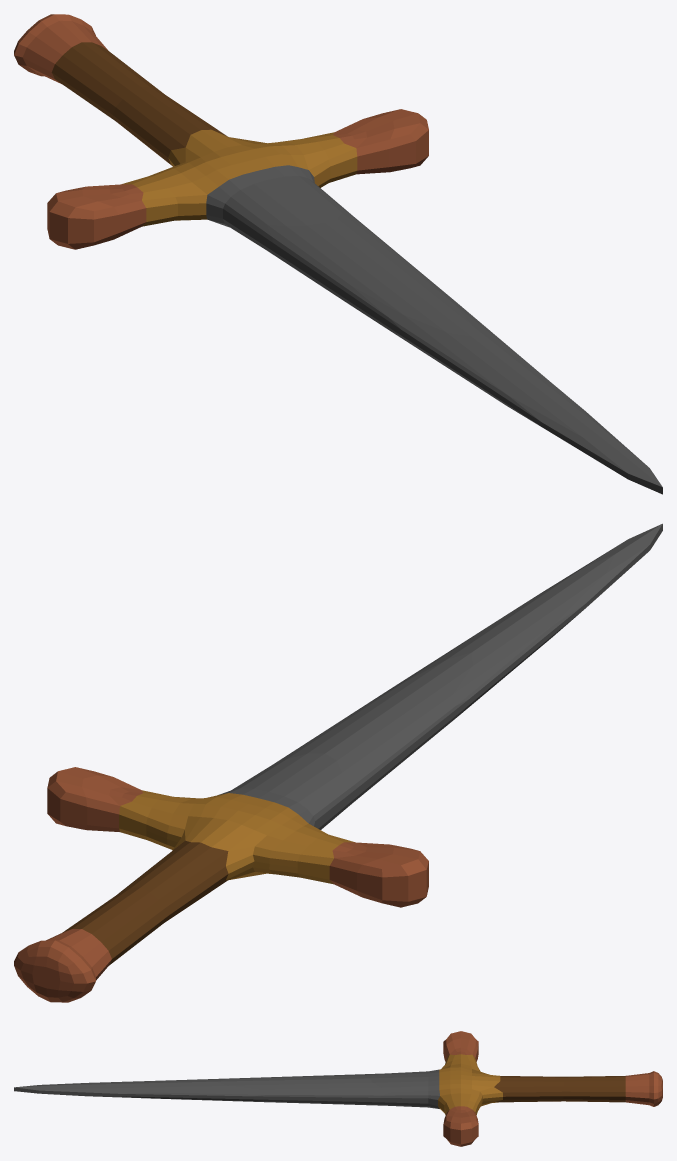
File: Sword.fbx
The picture shows the model from 3 angles, top to bottom: view 1: azimuth 30°, elevation 25°; view 2: azimuth 150°, elevation 25°; view 3: azimuth 270°, elevation 25°; orthographic projection. The views are drawn at different scales.
Parts seen in each view (by area): view 1: Cube.001; view 2: Cube.001; view 3: Cube.001.
Boxes of the visible parts, box(x1,y1,x2,y2) form: Cube.001: box(14, 14, 662, 494); Cube.001: box(14, 523, 662, 1002); Cube.001: box(14, 1031, 662, 1146).
Bounding box in the file's own units: 223 × 35.15 × 632.
